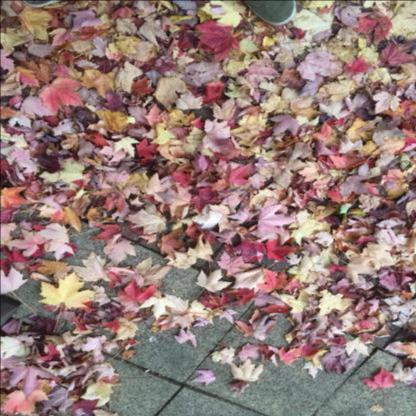Plastic bag - wrapper: (193, 208, 224, 231)
